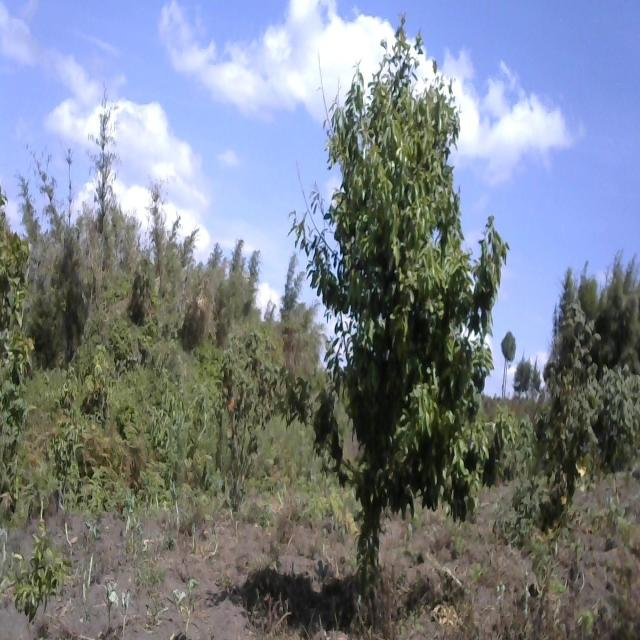Croton machrostychus: (540, 296, 610, 510), (600, 342, 640, 456)
Olea welwitchii: (293, 20, 516, 549)
